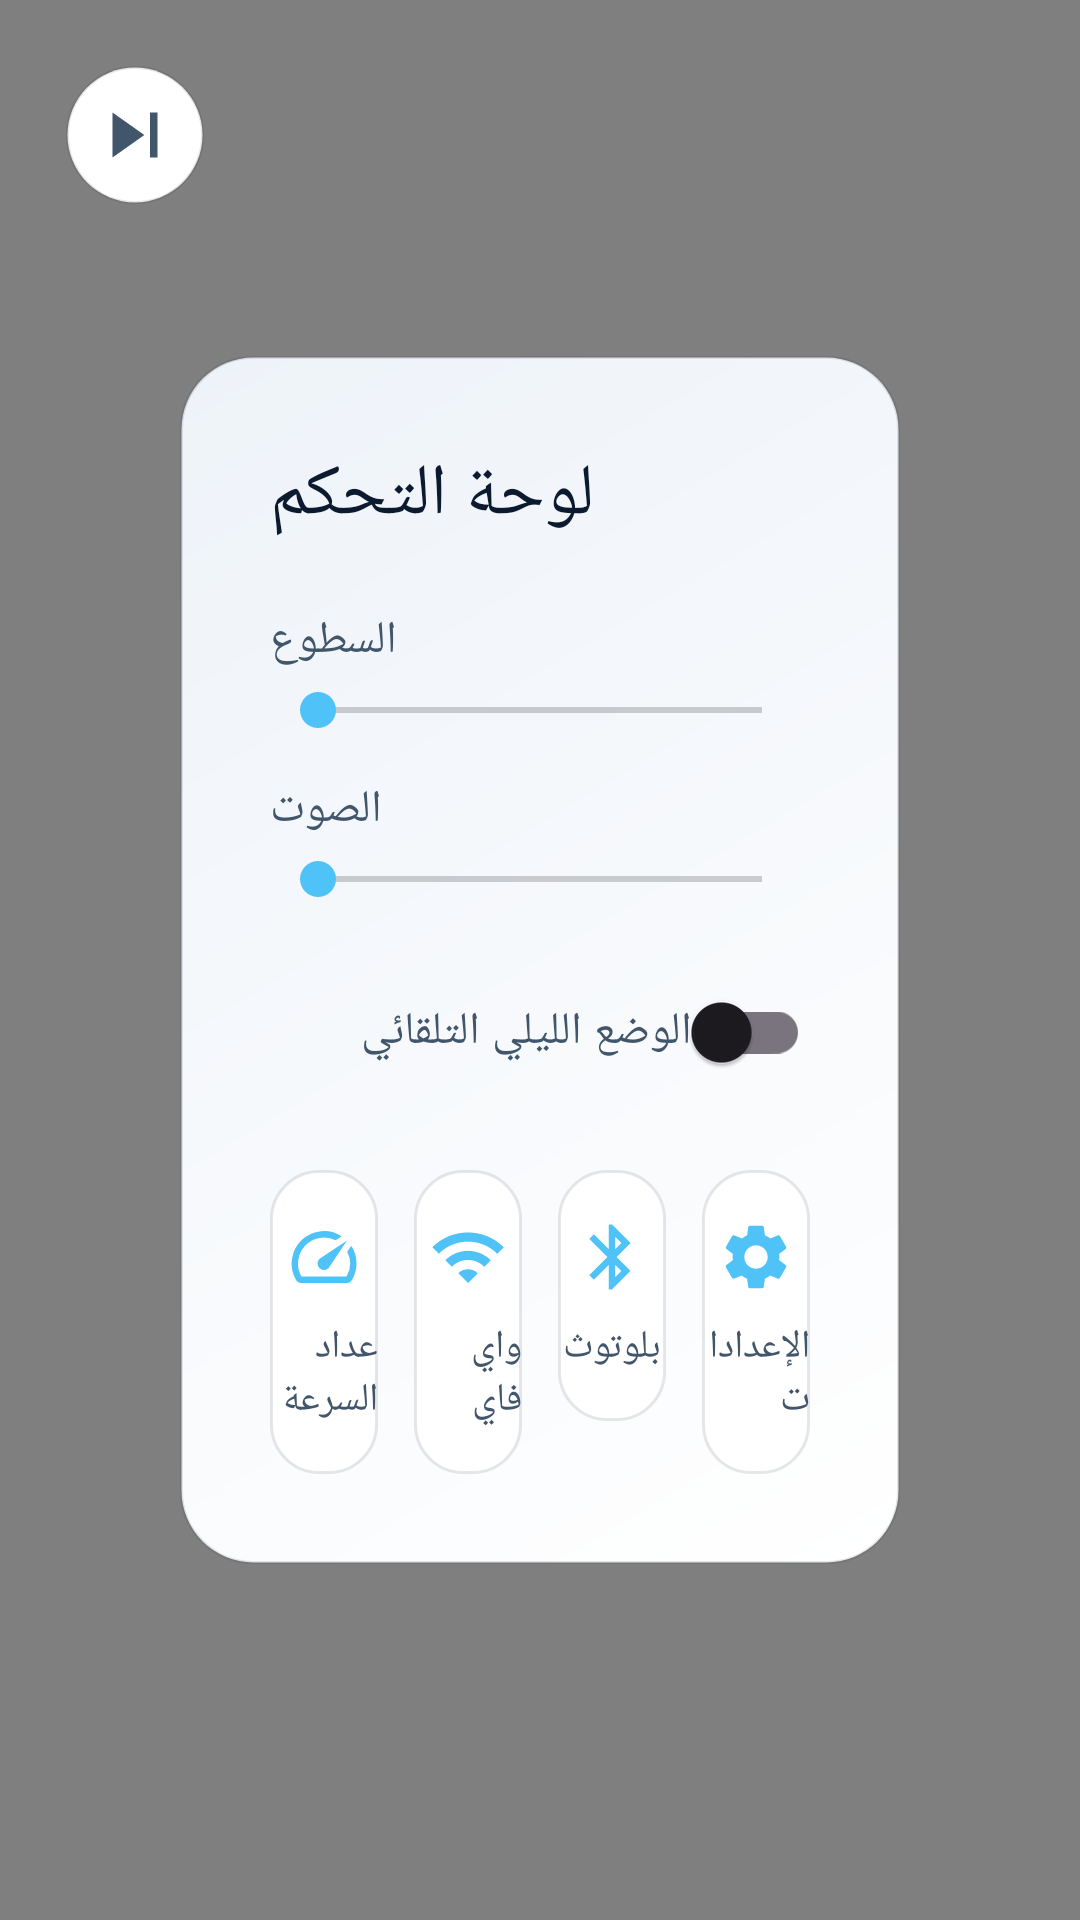

Locate icon controls on the screen. Image size 1080px x 1920px, boxes as (x1,y1,x2,y2).
settings: (725,1225,787,1289)
speed: (291,1231,357,1283)
wifi: (432,1232,504,1283)
